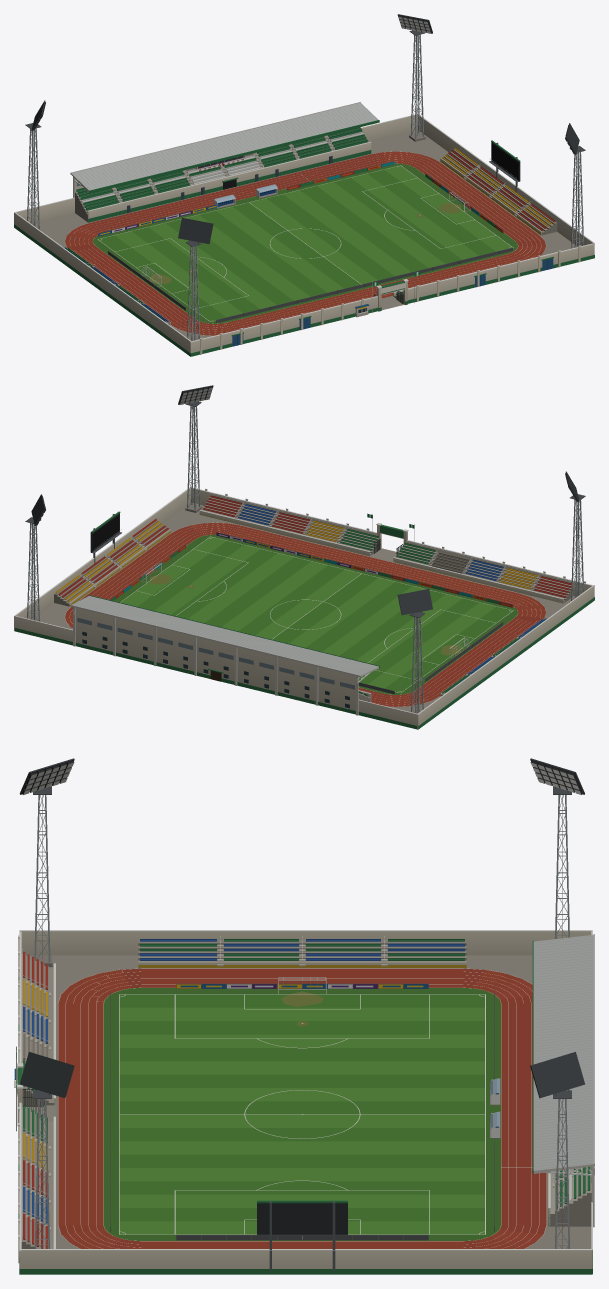
Rendered from ns_stadium.glb.
The picture shows the model from 3 angles, top to bottom: view 1: azimuth 30°, elevation 25°; view 2: azimuth 150°, elevation 25°; view 3: azimuth 270°, elevation 25°; orthographic projection. The views are drawn at different scales.
Parts seen in each view (by area): view 1: ns_stadium; view 2: ns_stadium; view 3: ns_stadium.
Boxes of the visible parts, box(x1,y1,x2,y2) form: ns_stadium: box(14, 14, 594, 356); ns_stadium: box(14, 385, 594, 729); ns_stadium: box(14, 758, 594, 1274).
Bounding box in the file's own units: 120 × 35.44 × 92.05.
